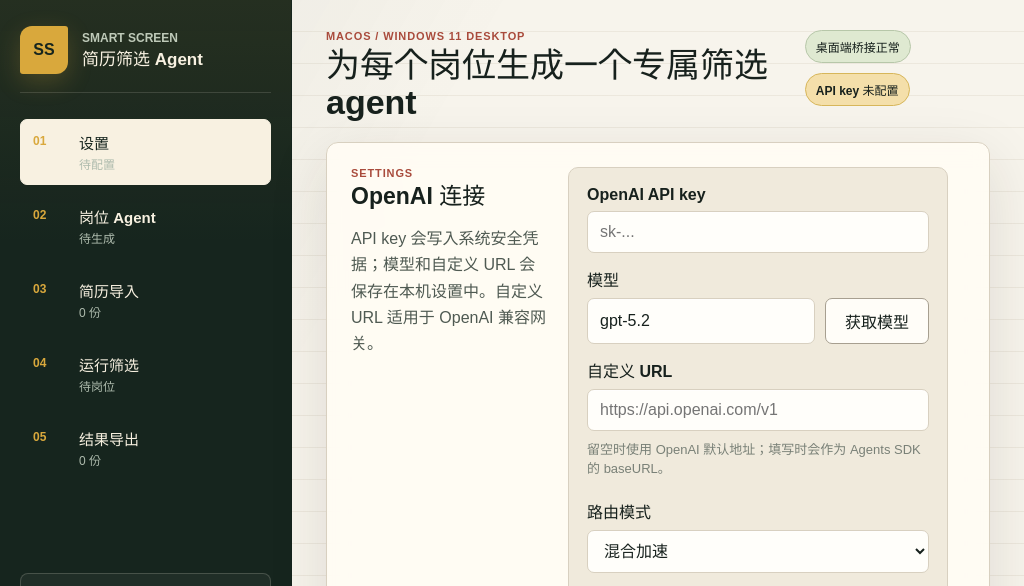
Test case: App smoke flow › resets the screening waiting state after a completed run
Click the button "02 岗位 Agent 待生成" at coordinates (146, 226), box [20, 193, 271, 259]
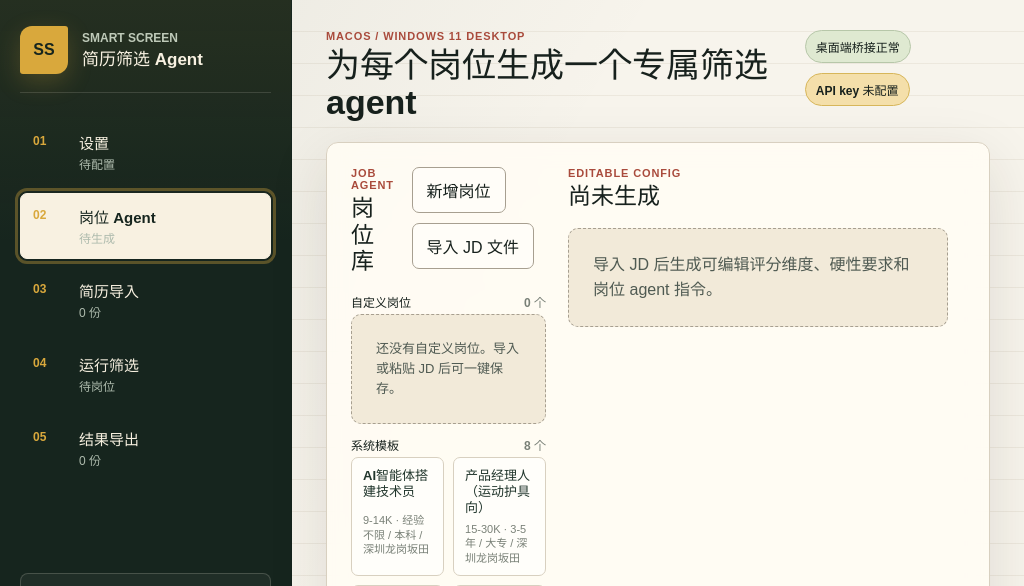
Click the button with aria-label "编辑 AI智能体搭建技术员" at coordinates (398, 517), box [351, 457, 444, 576]
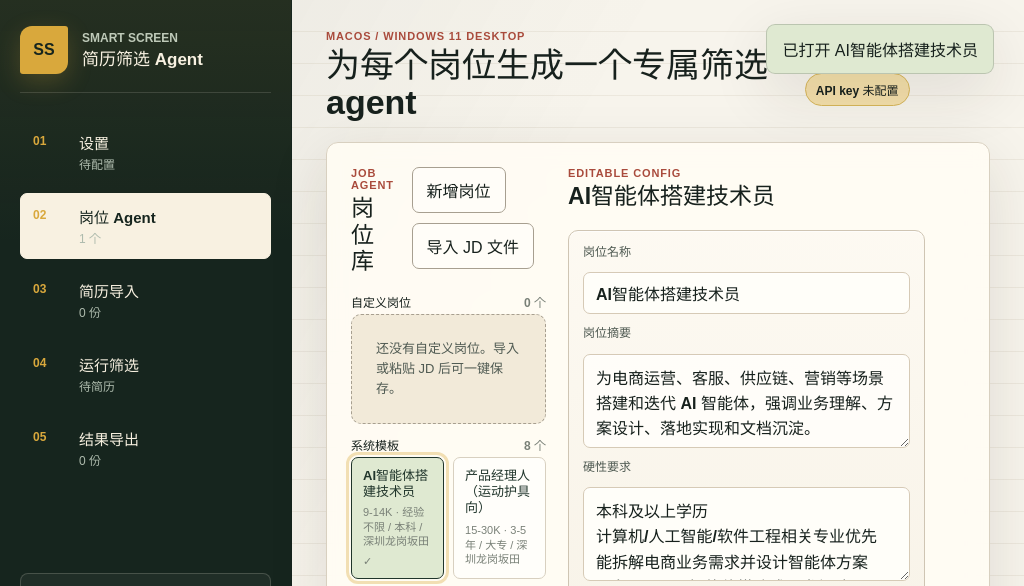
Click the button "03 简历导入 0 份" at coordinates (146, 300), box [20, 267, 271, 333]
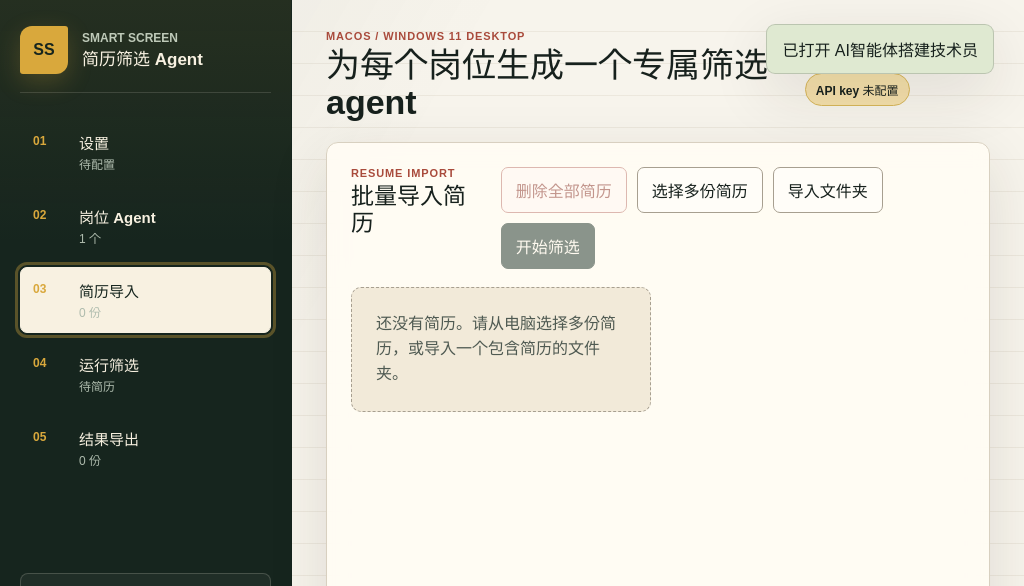
Click the button "选择多份简历" at coordinates (700, 190), box [637, 167, 763, 213]
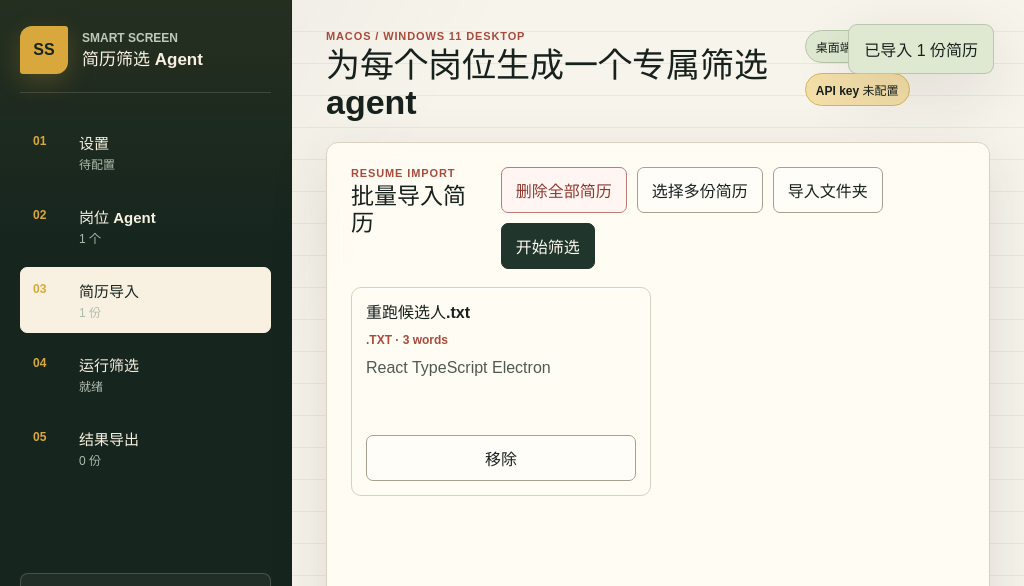
Click the button "开始筛选" at coordinates (548, 246), box [501, 223, 595, 269]
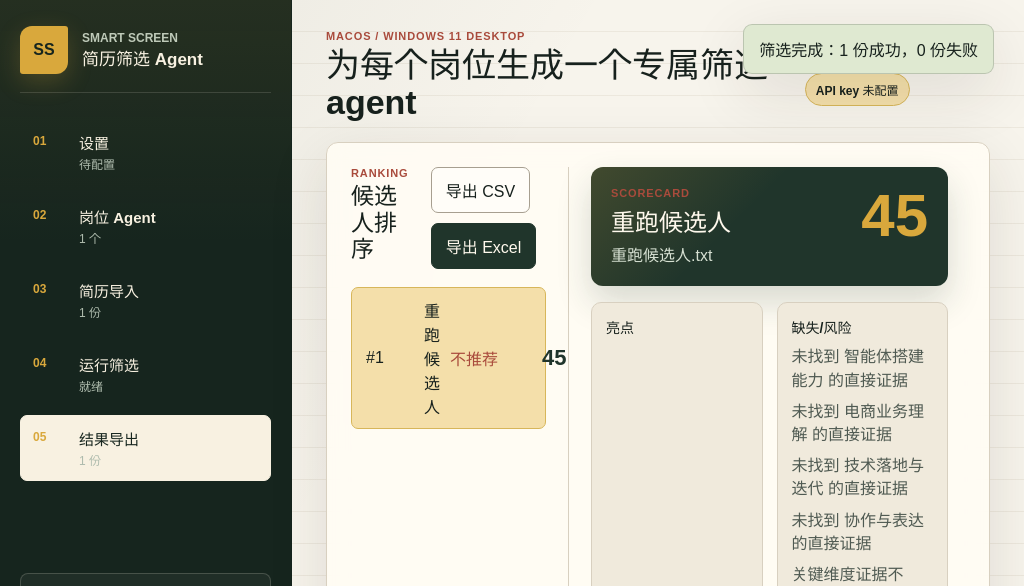
Expected: the heading "候选人排序" is shown, [351, 183, 397, 262]
Click the button "04 运行筛选 就绪" at coordinates (146, 374), box [20, 341, 271, 407]
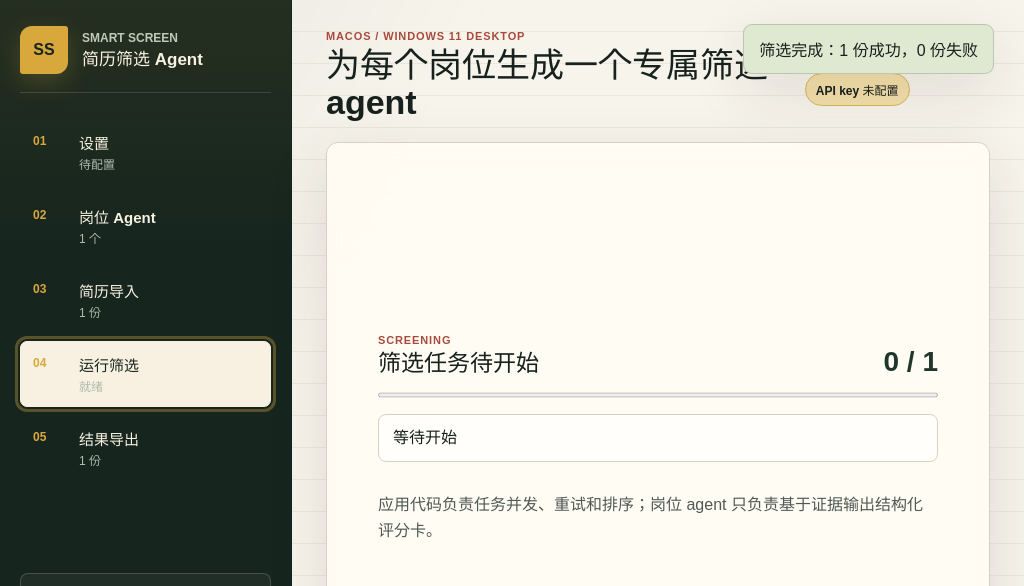
Expected: the heading "筛选任务待开始" is shown, [378, 350, 539, 376]
Expected: the text "0 / 1" is shown, [884, 348, 938, 376]
